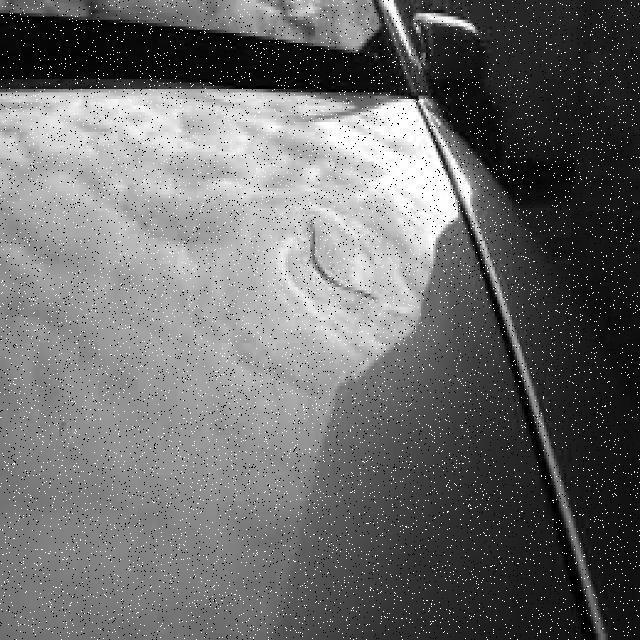bonnet-dent: (6, 56, 525, 574)
